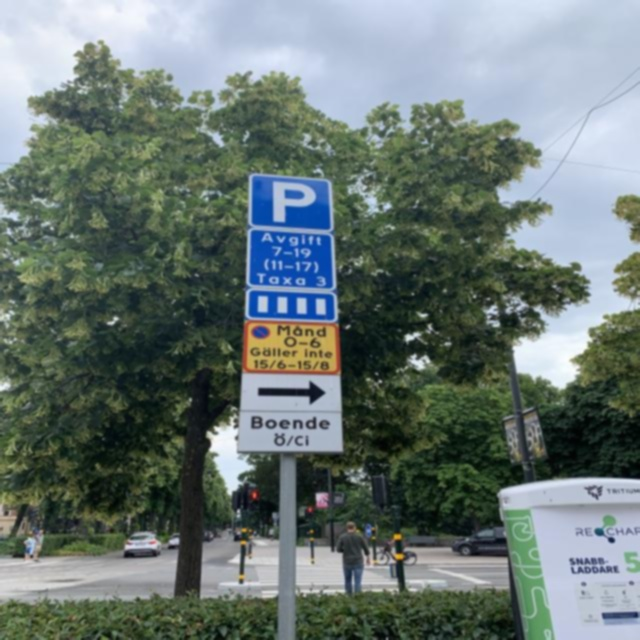P-skylt: (245, 170, 335, 236)
